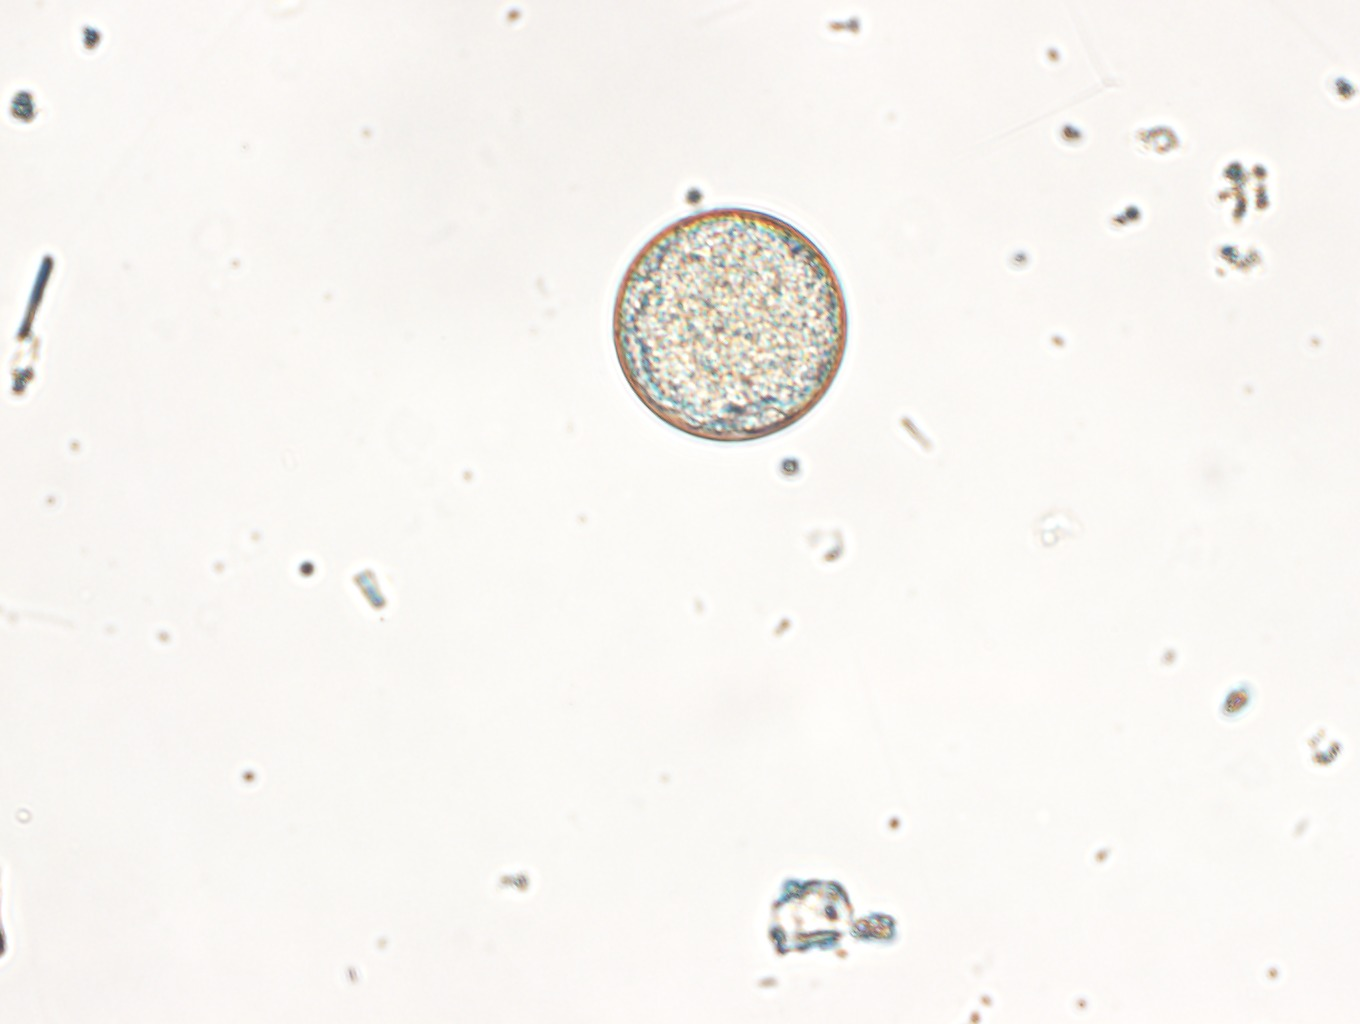coscinodiscus: (607, 205, 856, 445)
